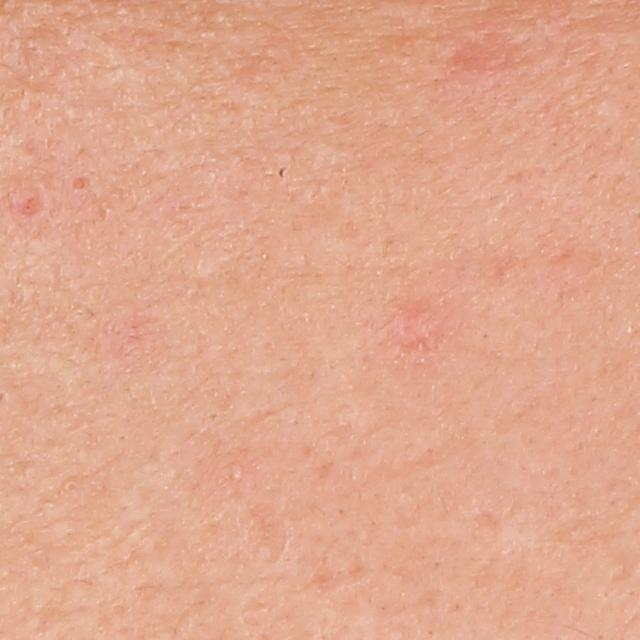atrophic_scar: (437, 26, 549, 77), (242, 511, 290, 560)
comedo: (70, 173, 94, 193), (226, 465, 245, 481)
